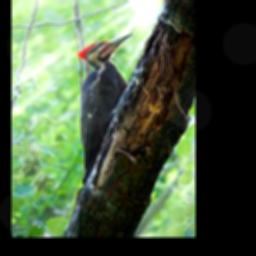Woodpecker: (76, 31, 135, 185)
